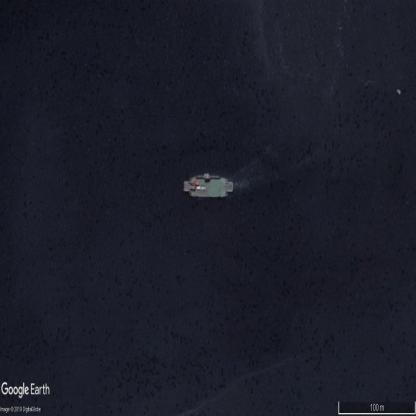ship: (183, 174, 236, 204)
